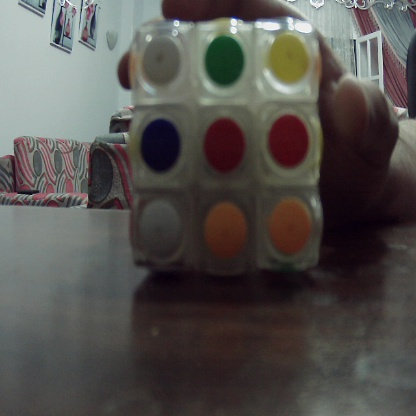Rubix Cube: (131, 16, 322, 273)
